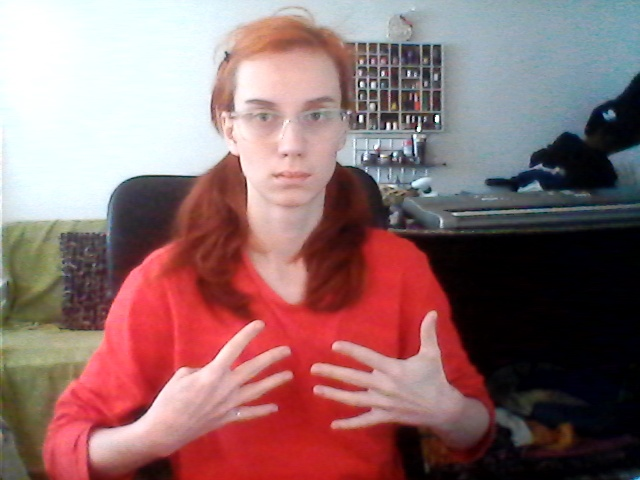devat: (155, 305, 462, 440)
